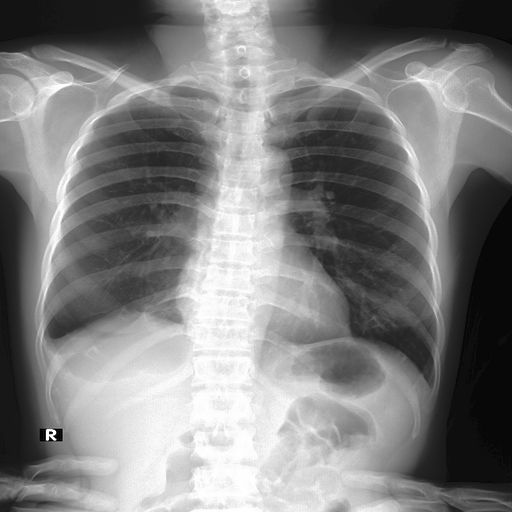Calcification: (108, 295, 152, 326), (32, 328, 68, 356)
Pleural effusion: (28, 301, 70, 370)
